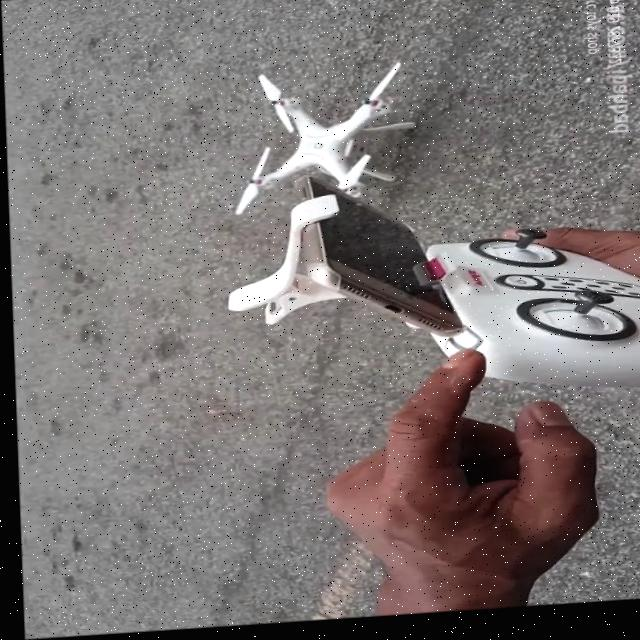drone: (226, 63, 423, 217)
